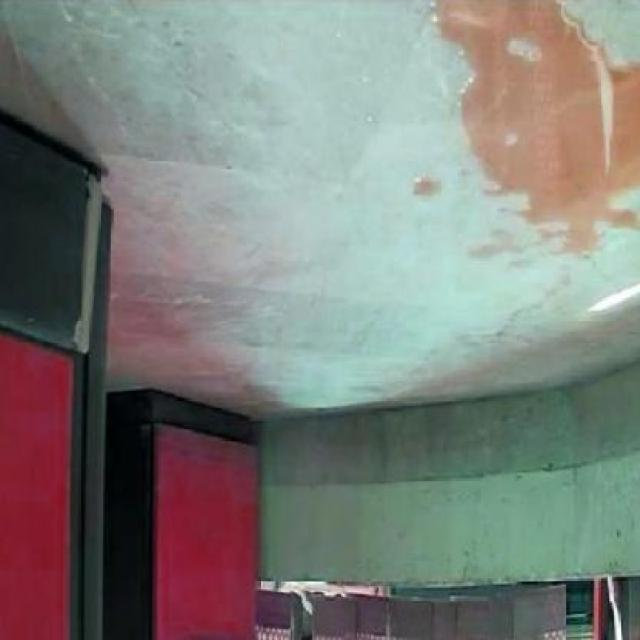spillage: (434, 1, 640, 257)
